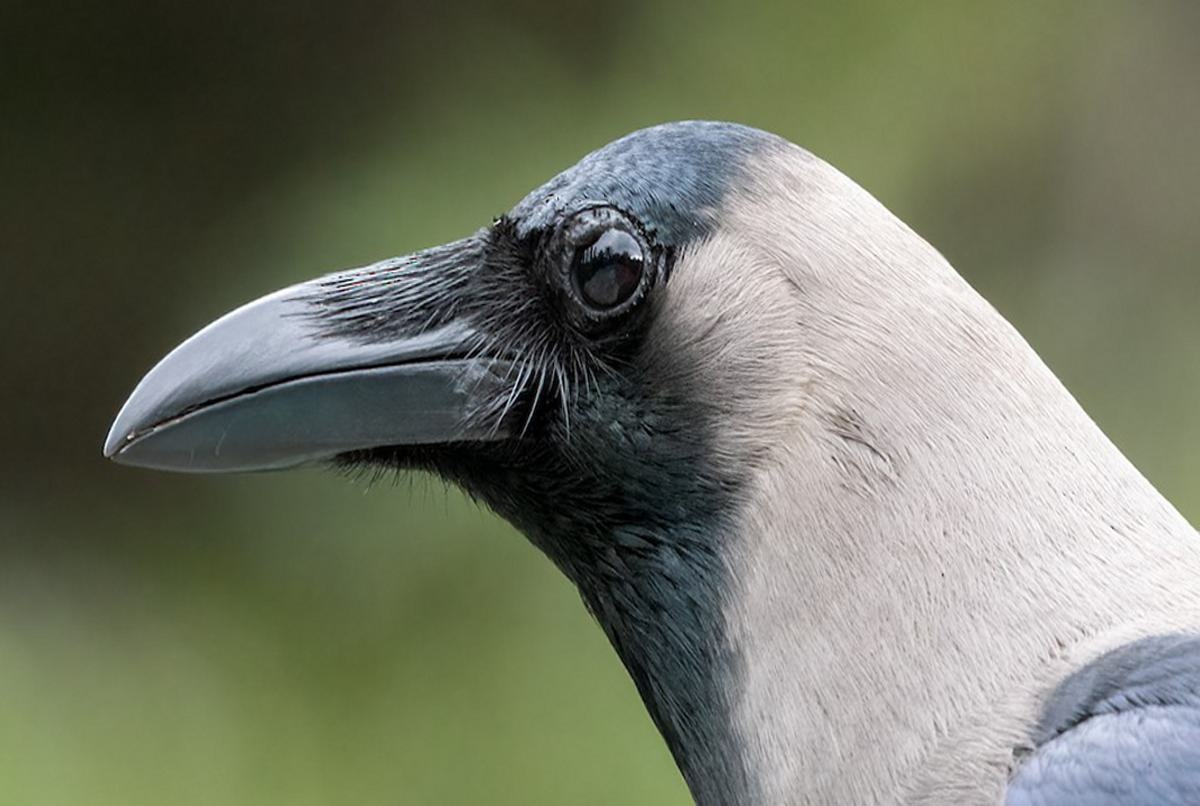crow: (104, 118, 1200, 806)
